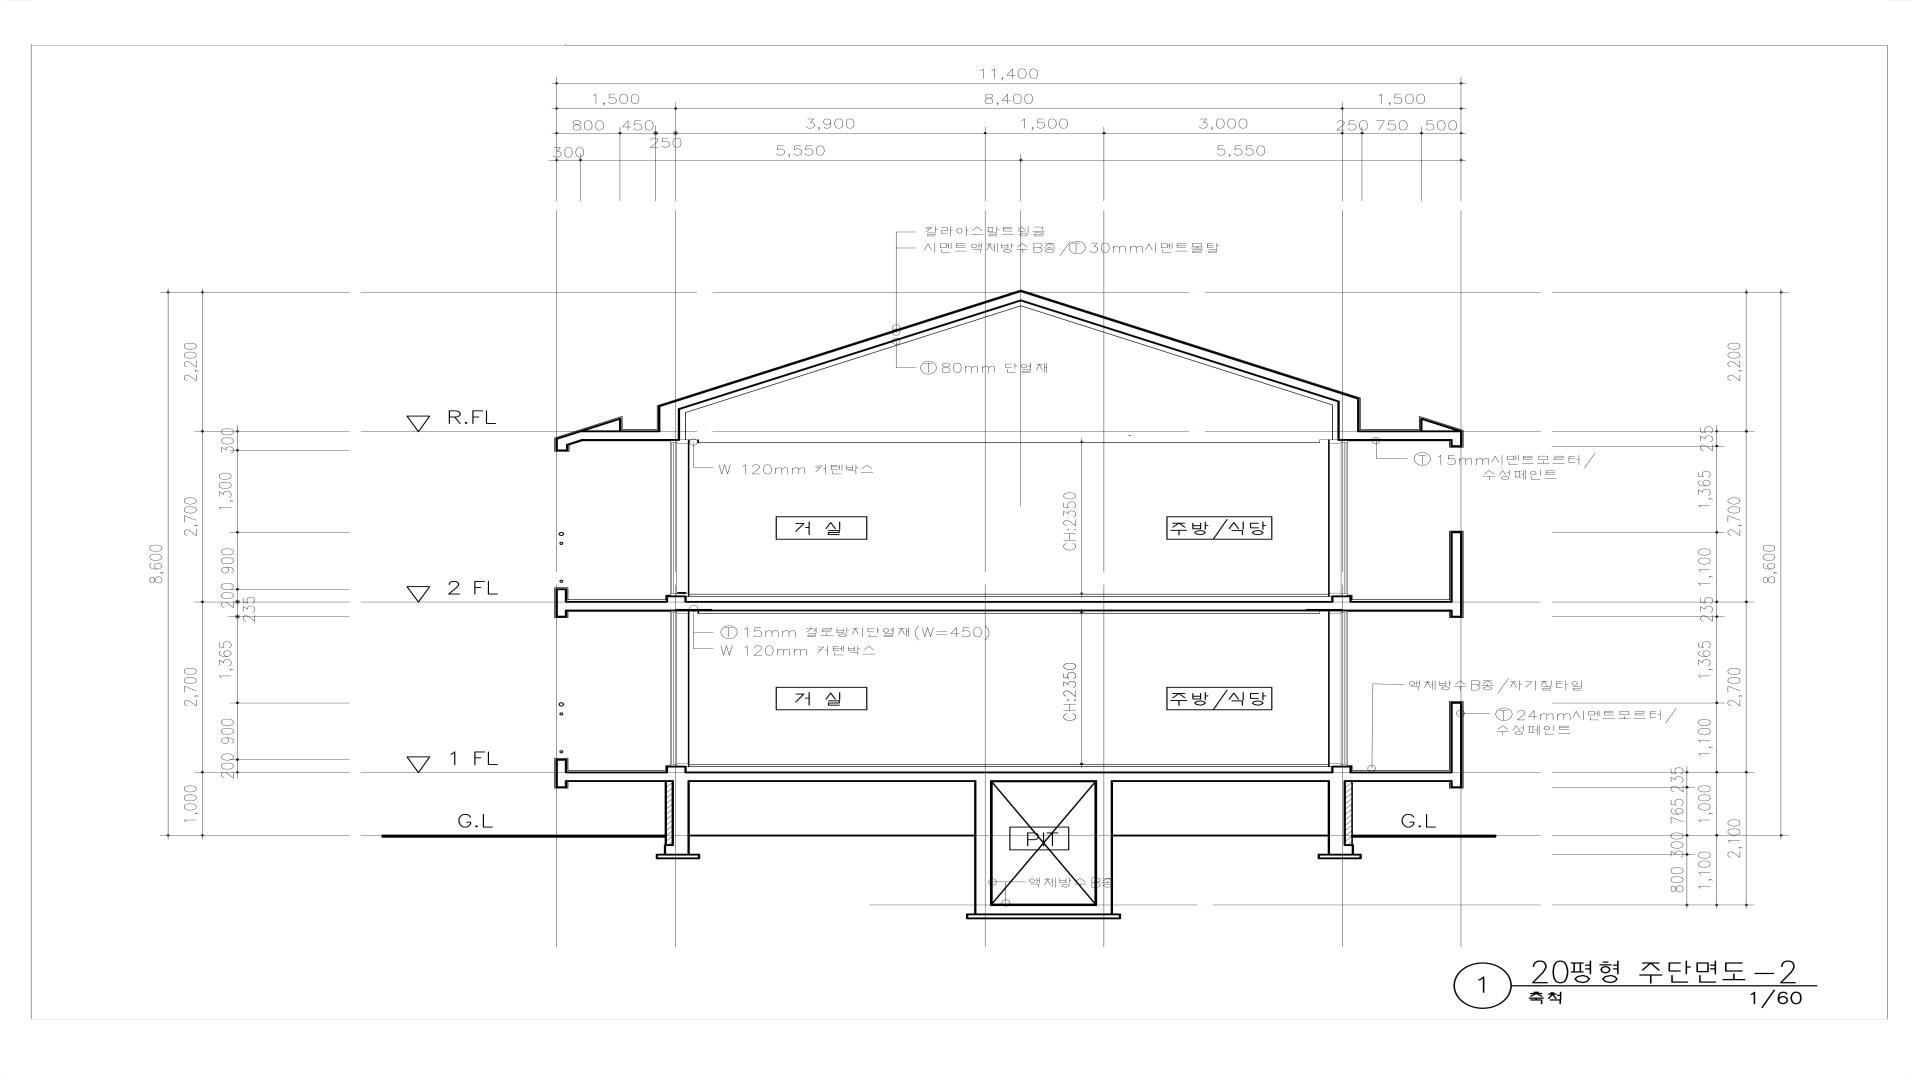wall: (658, 290, 1021, 410), (1021, 290, 1360, 402), (567, 596, 1451, 612), (567, 766, 1451, 782), (1093, 782, 1113, 905), (975, 782, 993, 905), (1328, 781, 1354, 855), (663, 782, 690, 855), (975, 905, 1113, 914), (582, 430, 680, 442), (1449, 531, 1462, 618), (1449, 702, 1462, 789), (1360, 431, 1462, 442), (1337, 398, 1360, 440), (658, 406, 680, 431), (1422, 418, 1462, 431), (583, 418, 621, 430), (555, 430, 583, 444), (555, 588, 567, 618), (555, 760, 567, 789), (555, 438, 568, 452), (1451, 442, 1462, 447)
window: (1328, 439, 1348, 596), (670, 612, 690, 766), (1328, 612, 1348, 766), (670, 442, 688, 596)
